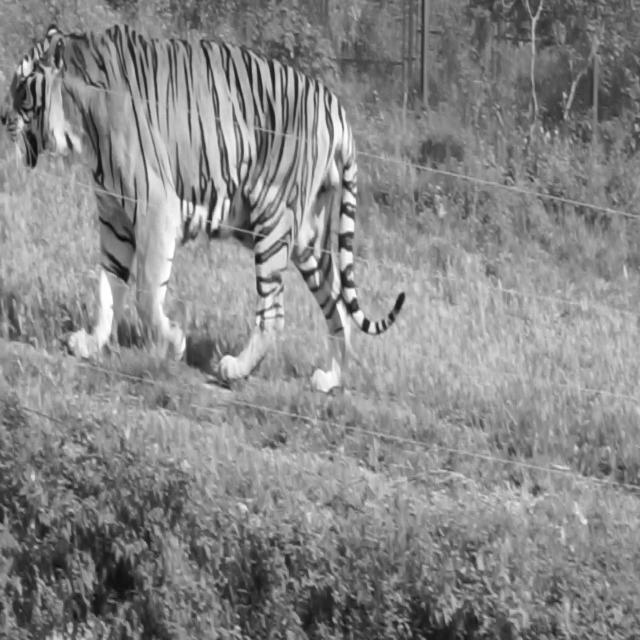Tiger: (5, 21, 405, 397)
